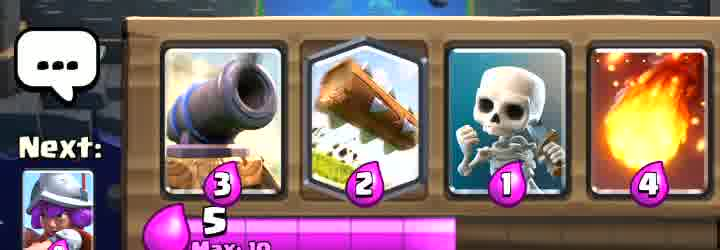fireball: (596, 46, 710, 193)
log: (310, 43, 424, 192)
musketeer: (24, 171, 93, 250)
